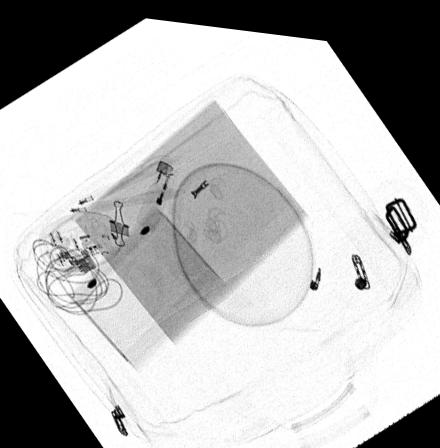Lighter: (136, 155, 176, 230)
